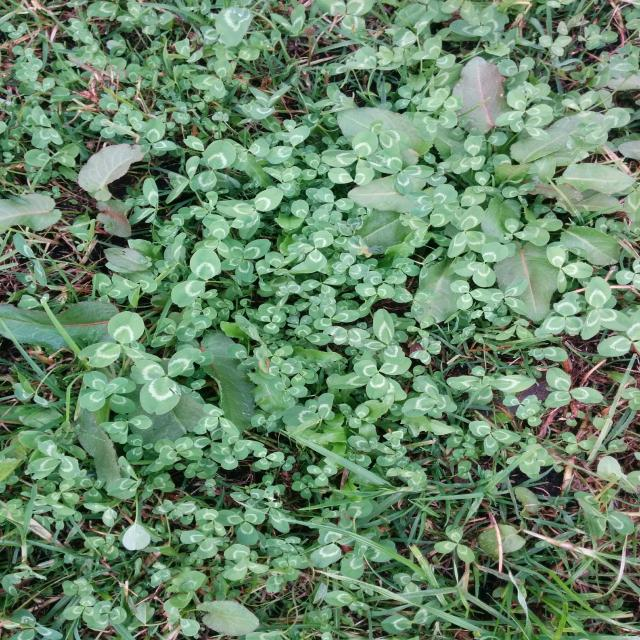Four Leaf Clover: (220, 238, 271, 282)
